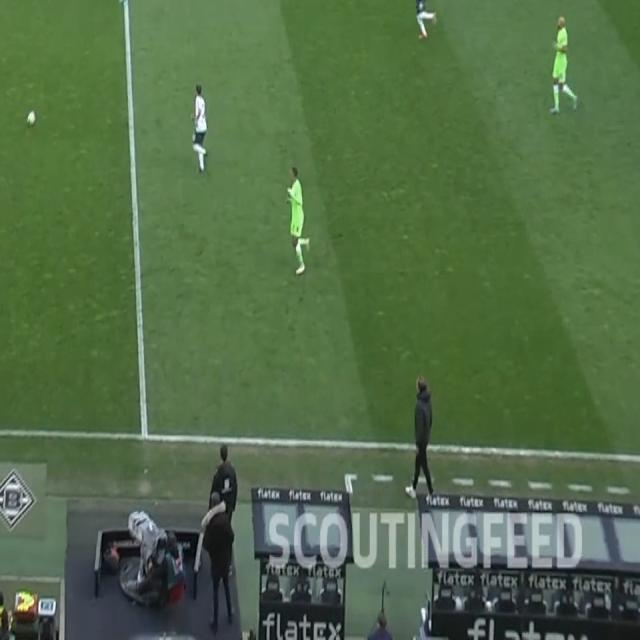ball: (26, 109, 37, 128)
